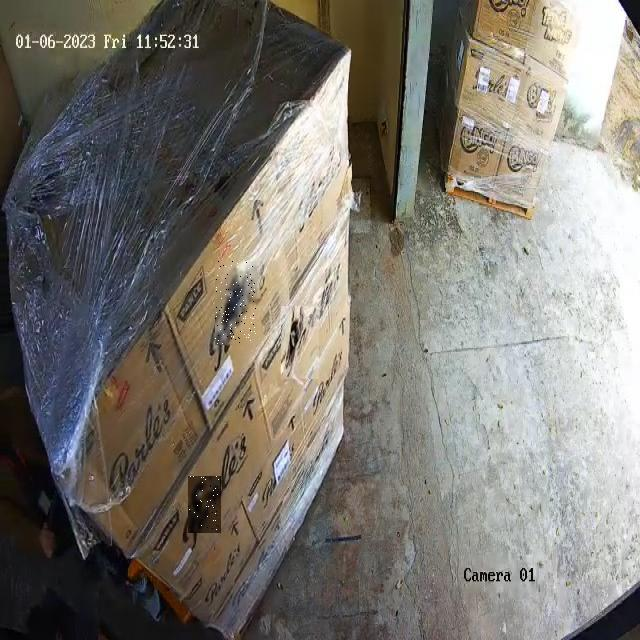leakage: (216, 262, 256, 344), (282, 307, 317, 378), (189, 476, 219, 532)
